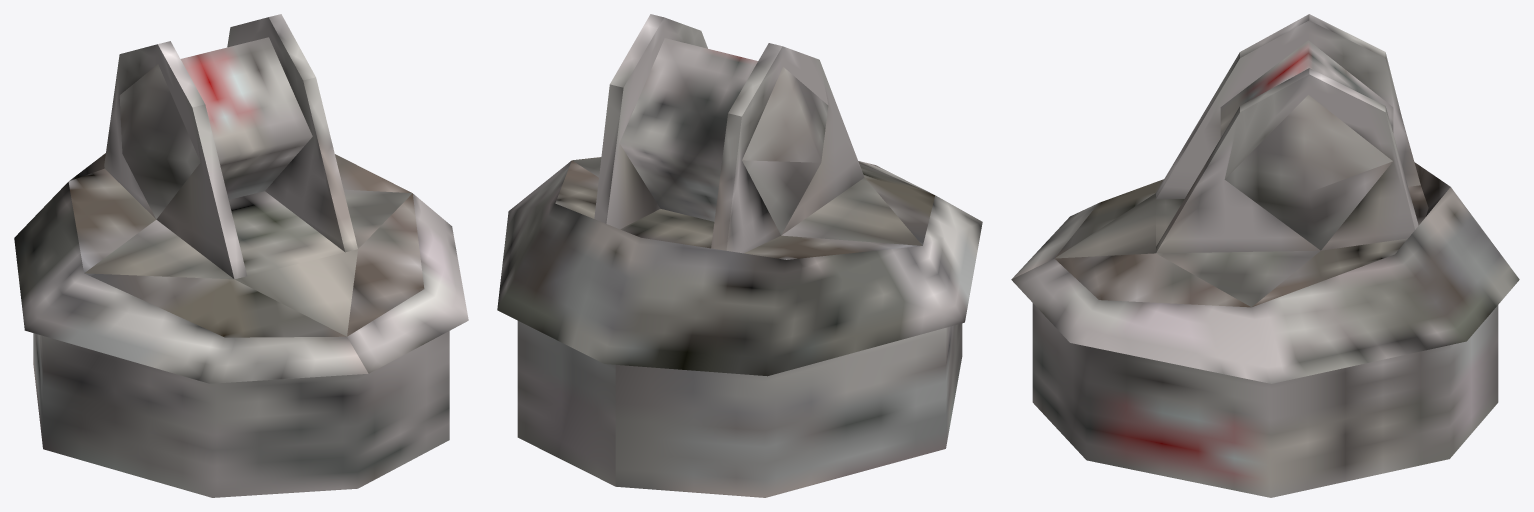
File: corellian_corvette_turret_large_base_s01_l3.fbx
3 renders of one model, left to right at view 1: azimuth 30°, elevation 25°; view 2: azimuth 150°, elevation 25°; view 3: azimuth 270°, elevation 25°, orthographic. The views are drawn at different scales.
Parts seen in each view (by area): view 1: mesh_node; view 2: mesh_node; view 3: mesh_node.
Boxes of the visible parts, <box> form: mesh_node: <box>14,14,468,497</box>; mesh_node: <box>497,14,982,497</box>; mesh_node: <box>1011,14,1519,497</box>.
Size of the model in its own units: 14.95 by 11.98 by 15.41.
